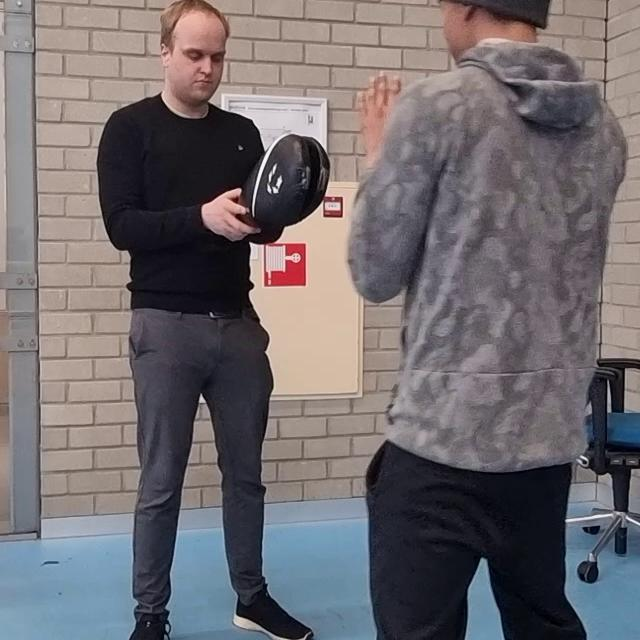paddle: (239, 134, 331, 228)
